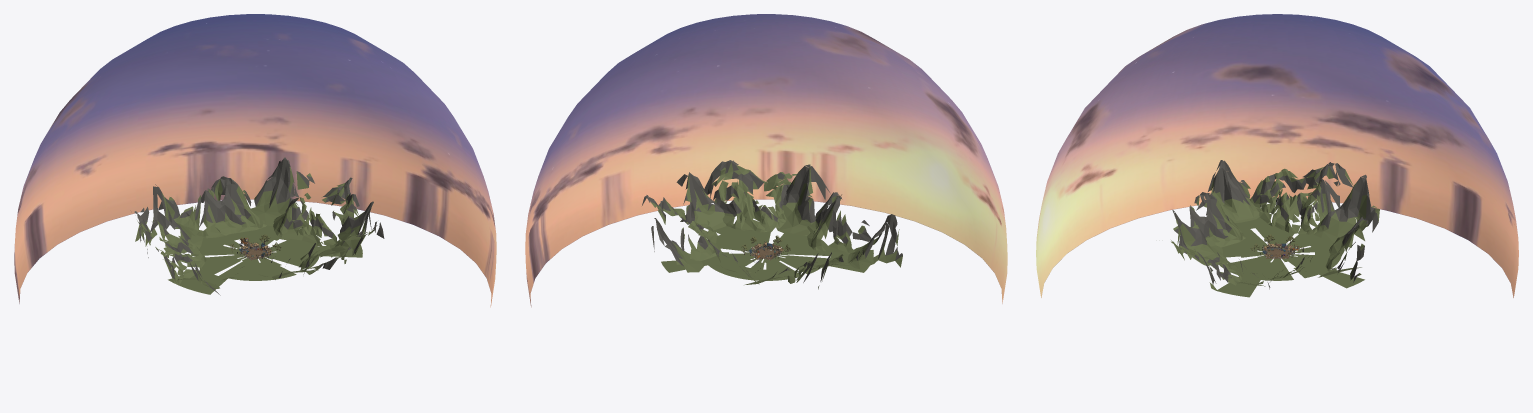
The model's file is arena_market.glb.
The picture shows the model from 3 angles, left to right: view 1: azimuth 30°, elevation 25°; view 2: azimuth 150°, elevation 25°; view 3: azimuth 270°, elevation 25°; orthographic projection.
Visible parts, largest first — view 1: Sky, Arena_Atlas; view 2: Sky, Arena_Atlas; view 3: Sky, Arena_Atlas.
Part boxes in pixels (x1=…): Sky: x1=14, y1=14, x2=496, y2=307; Arena_Atlas: x1=134, y1=157, x2=384, y2=295; Sky: x1=525, y1=14, x2=1007, y2=307; Arena_Atlas: x1=642, y1=160, x2=902, y2=289; Sky: x1=1036, y1=14, x2=1518, y2=297; Arena_Atlas: x1=1171, y1=160, x2=1379, y2=297.
Size of the model in its own units: 900 by 544 by 900.
7 materials, 5 textured.
